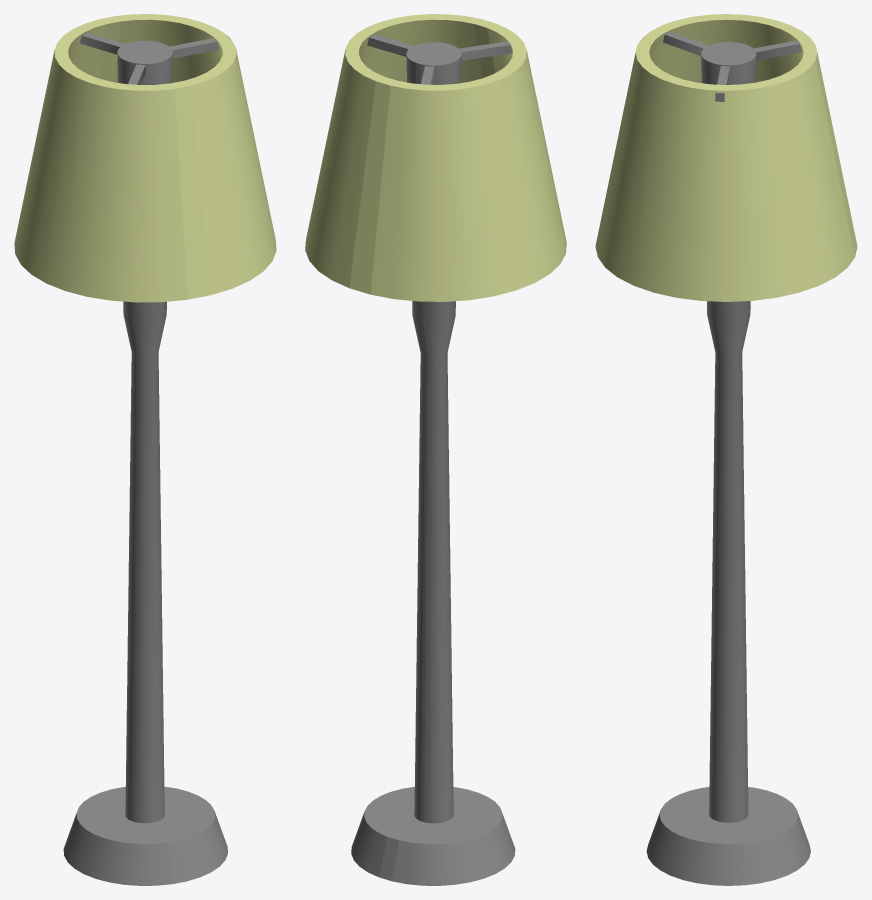
File: lamp.fbx
The picture shows the model from 3 angles, left to right: view 1: azimuth 30°, elevation 25°; view 2: azimuth 150°, elevation 25°; view 3: azimuth 270°, elevation 25°; orthographic projection.
Parts seen in each view (by area): view 1: lamp; view 2: lamp; view 3: lamp.
Part boxes in pixels (x1,y1,x2,y2): lamp: (14, 14, 276, 885); lamp: (305, 14, 566, 885); lamp: (595, 14, 857, 885).
Bounding box in the file's own units: 226 × 758 × 226.
